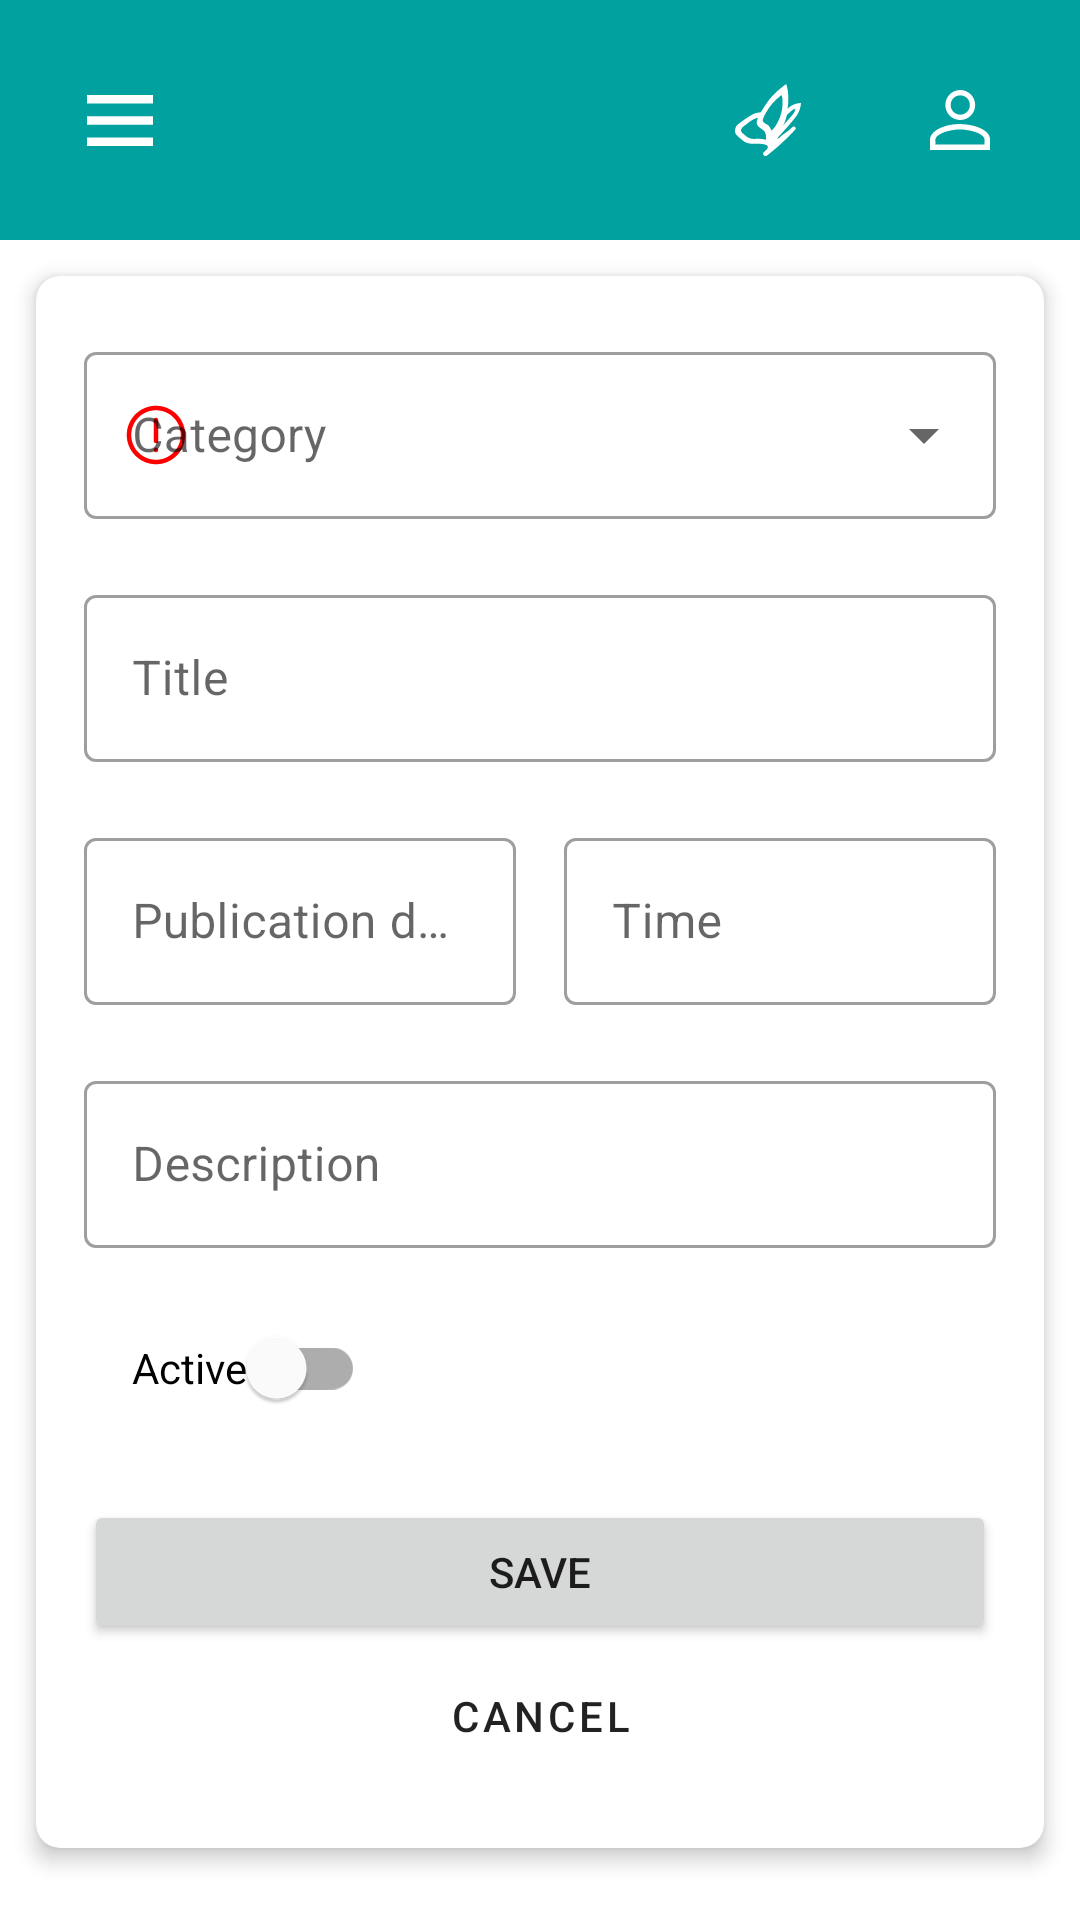

Named icons in this screenshot (1080w x 1920h) and their bounding boxes, bbox=[x1, y1, x2, y2]:
Authorization: bbox=[930, 90, 990, 150]
Main menu: bbox=[87, 95, 153, 146]
